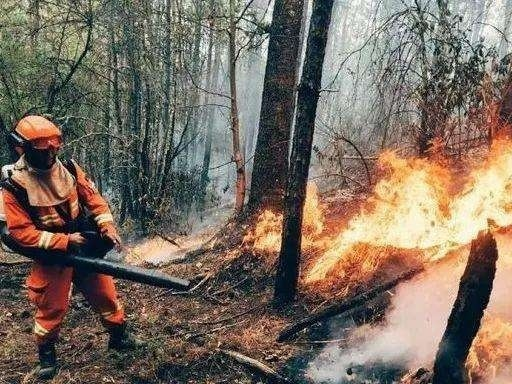fire: (234, 117, 512, 363)
